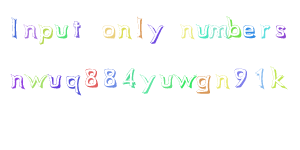1: (251, 63, 268, 93)
4: (120, 63, 138, 92)
8: (101, 62, 121, 93), (82, 61, 100, 93)
9: (230, 59, 250, 93)
I: (6, 12, 28, 40)
b: (225, 13, 242, 40)
e: (240, 20, 258, 41)
g: (196, 72, 211, 97)
k: (269, 64, 293, 93)
l: (135, 13, 145, 41)
m: (207, 21, 229, 43)
n: (6, 68, 25, 92), (213, 68, 231, 91), (176, 22, 195, 42), (21, 20, 39, 41), (116, 20, 133, 41)
o: (97, 20, 117, 44)
p: (37, 22, 54, 47)
q: (64, 71, 83, 99)
r: (256, 20, 272, 41)
s: (272, 20, 290, 40)
t: (71, 16, 85, 41)
u: (46, 68, 64, 94), (157, 69, 174, 91), (195, 21, 212, 40), (54, 21, 70, 40)
w: (23, 69, 49, 91), (174, 69, 196, 93)
y: (138, 69, 157, 98), (145, 21, 166, 47)
